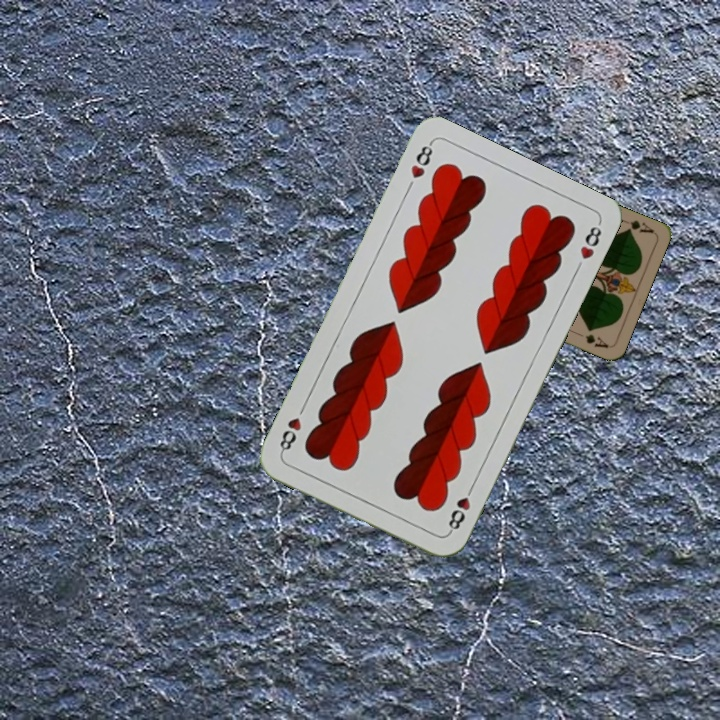GA: (617, 215, 656, 236)
H8: (444, 480, 477, 536), (406, 138, 436, 181)
